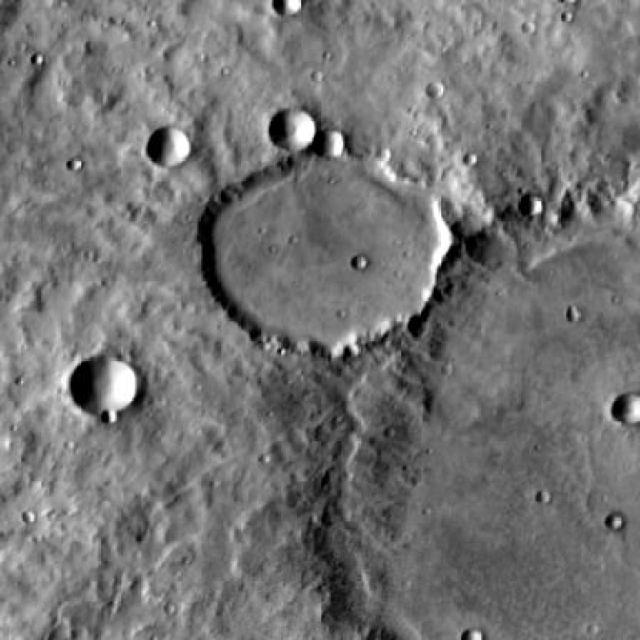crater: (208, 148, 446, 360), (68, 354, 137, 415), (270, 111, 319, 154), (147, 128, 190, 166), (314, 128, 348, 158), (614, 393, 640, 425), (522, 192, 548, 217), (271, 0, 304, 17), (608, 513, 627, 530), (563, 0, 583, 12)
